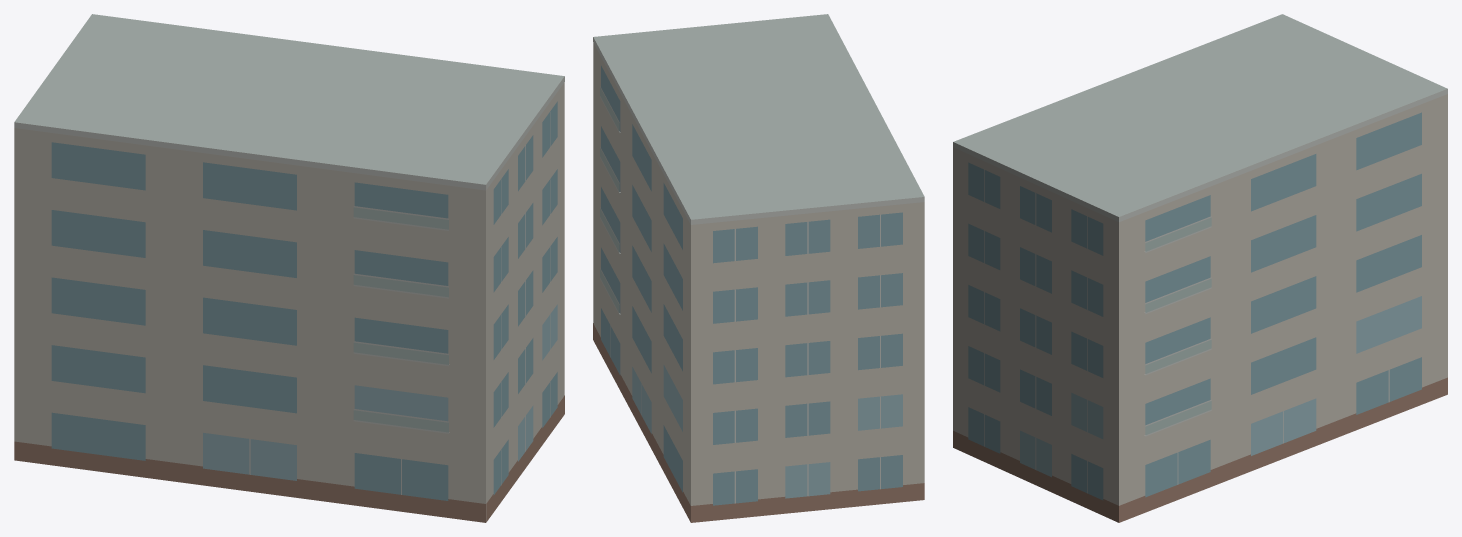
Rendered from survey-upis-32713546.glb.
3 views of the same model, side by side, from view 1: azimuth 30°, elevation 25°; view 2: azimuth 150°, elevation 25°; view 3: azimuth 270°, elevation 25° (orthographic). The views are drawn at different scales.
Parts seen in each view (by area): view 1: survey-upis-32713546.tmp; view 2: survey-upis-32713546.tmp; view 3: survey-upis-32713546.tmp.
Part boxes in pixels (box(x1,y1,x2,y2)): survey-upis-32713546.tmp: box(14, 14, 564, 522); survey-upis-32713546.tmp: box(593, 14, 924, 522); survey-upis-32713546.tmp: box(953, 14, 1447, 522).
Bounding box in the file's own units: 20.38 × 14.3 × 20.98.
